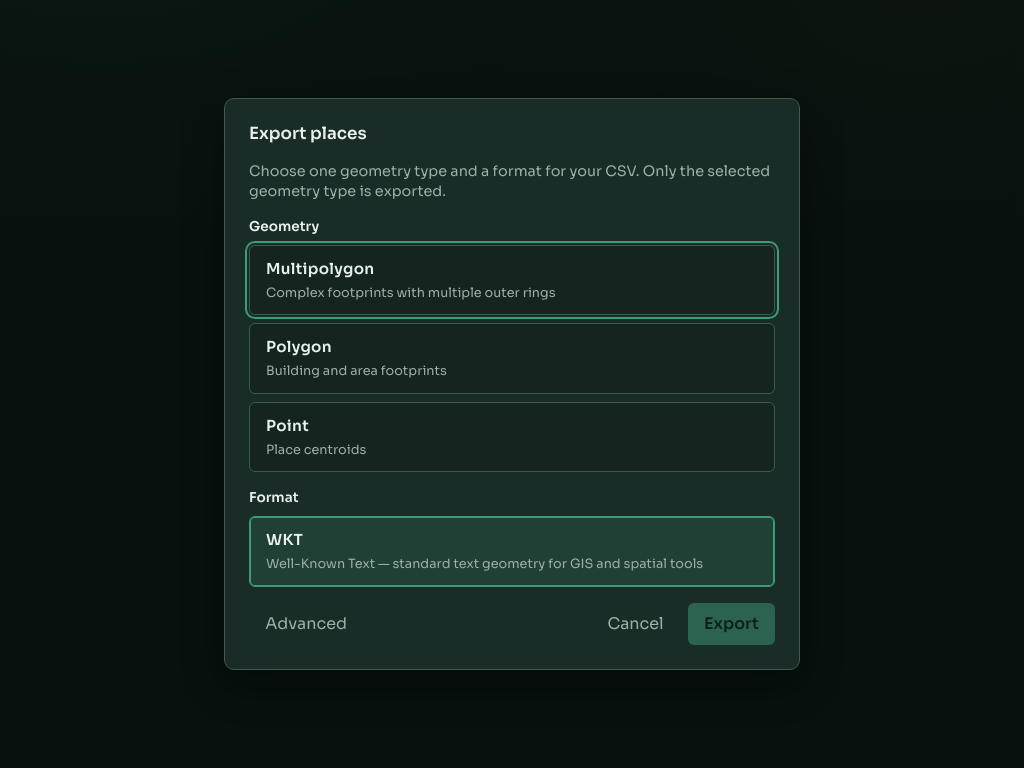
ExportGeometryModal › hides Include Retail Area when POINT is selected
Click the button "Point Place centroids" at coordinates (288, 425), box [249,402,775,472]
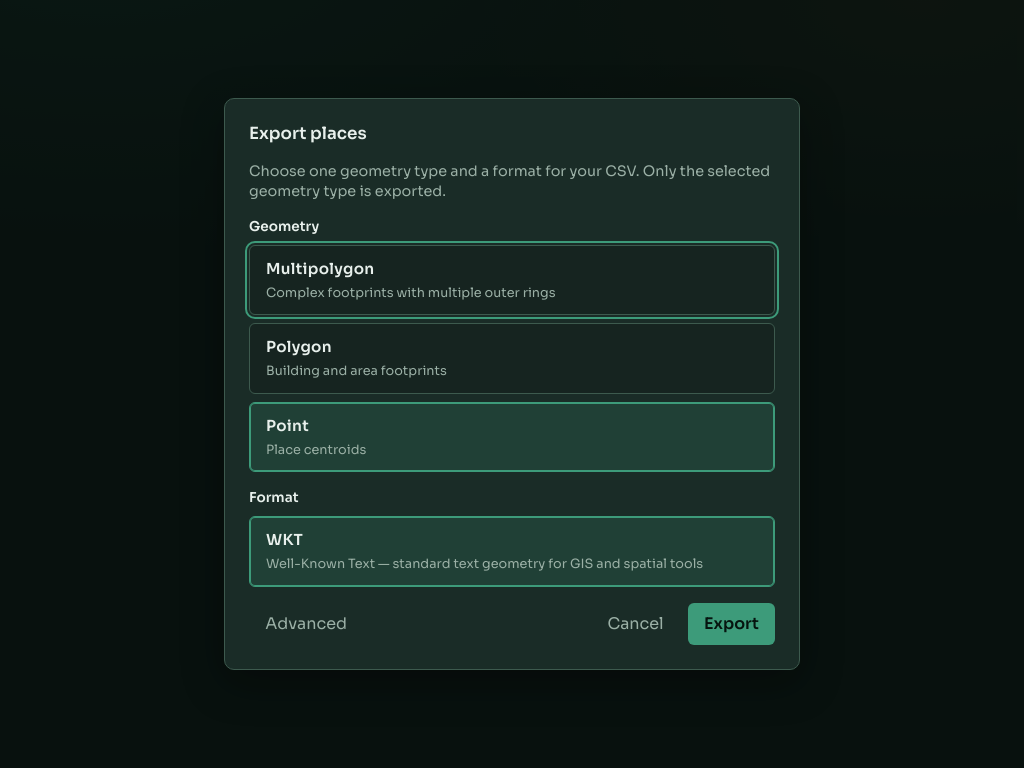
Click the button "Advanced" at coordinates (306, 624), box [249,602,363,645]
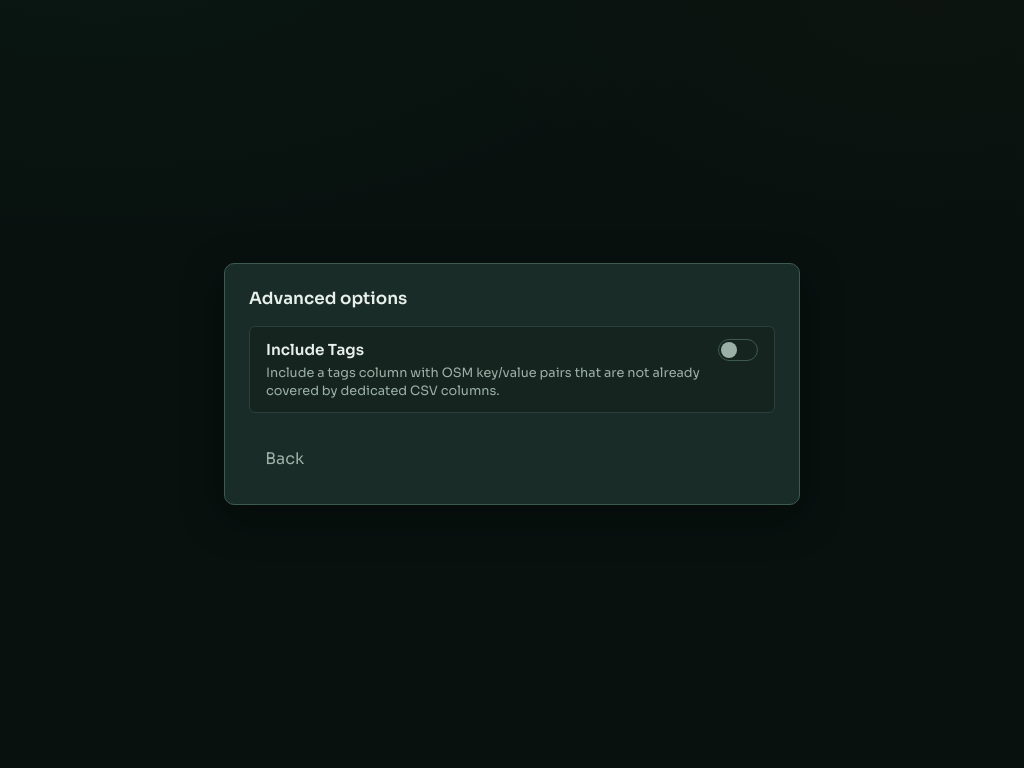
Check: the switch named "Include Tags" is shown, box [718,339,758,361]
